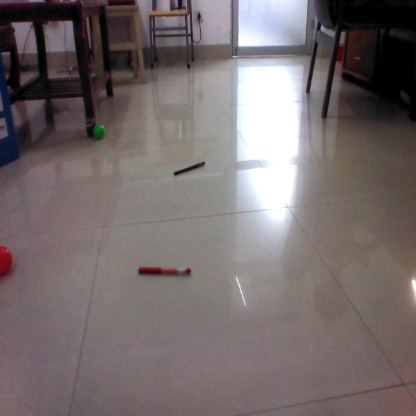ball: (1, 246, 13, 276), (91, 124, 108, 141)
pen: (135, 264, 194, 279), (172, 160, 208, 177)
